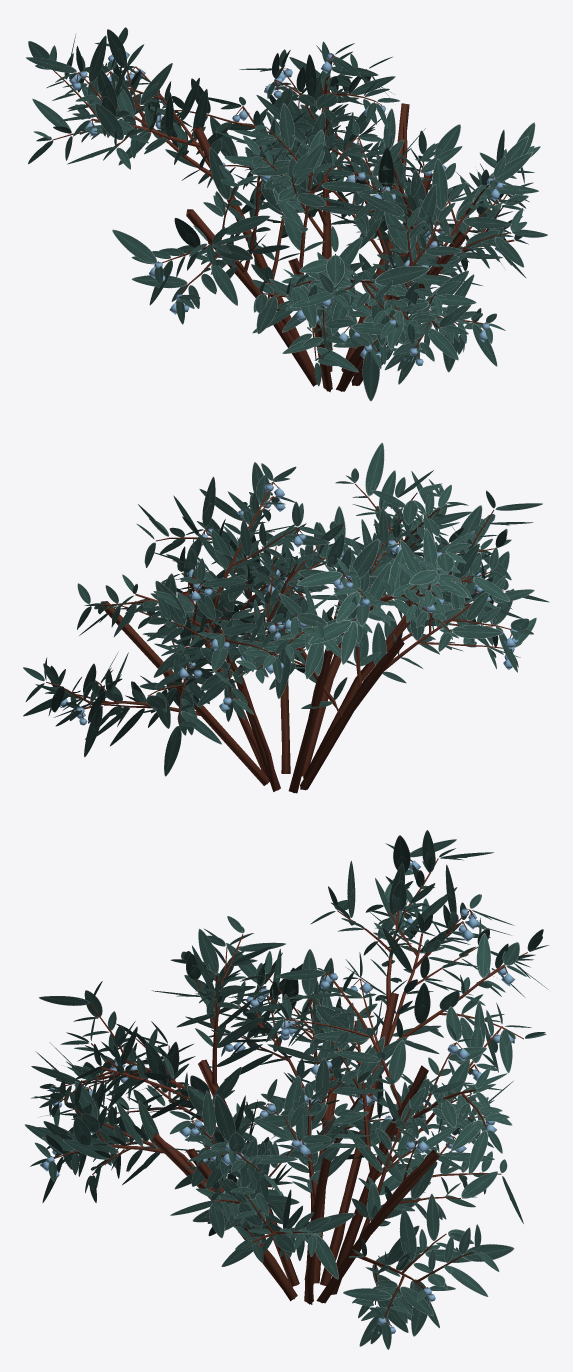
The model's file is forage-frostberry.glb.
3 views of the same model, one above another, from view 1: azimuth 30°, elevation 25°; view 2: azimuth 150°, elevation 25°; view 3: azimuth 270°, elevation 25° (orthographic). The views are drawn at different scales.
Parts seen in each view (by area): view 1: bodyFar, body, fruit, fruitFar; view 2: bodyFar, body, fruit, fruitFar; view 3: bodyFar, body, fruit, fruitFar.
Boxes of the visible parts, x1,y1,x2,y2 form: bodyFar: (25,27,547,401); body: (33,41,540,391); fruit: (69,53,505,365); fruitFar: (70,51,505,361); bodyFar: (23,442,549,793); body: (23,463,533,793); fruit: (64,482,518,725); fruitFar: (60,487,515,719); bodyFar: (24,830,548,1346); body: (30,843,549,1349); fruit: (46,860,512,1333); fruitFar: (40,860,514,1333).
Size of the model in its own units: 0.8261 by 0.5779 by 0.7658.
1 material, 1 textured.
